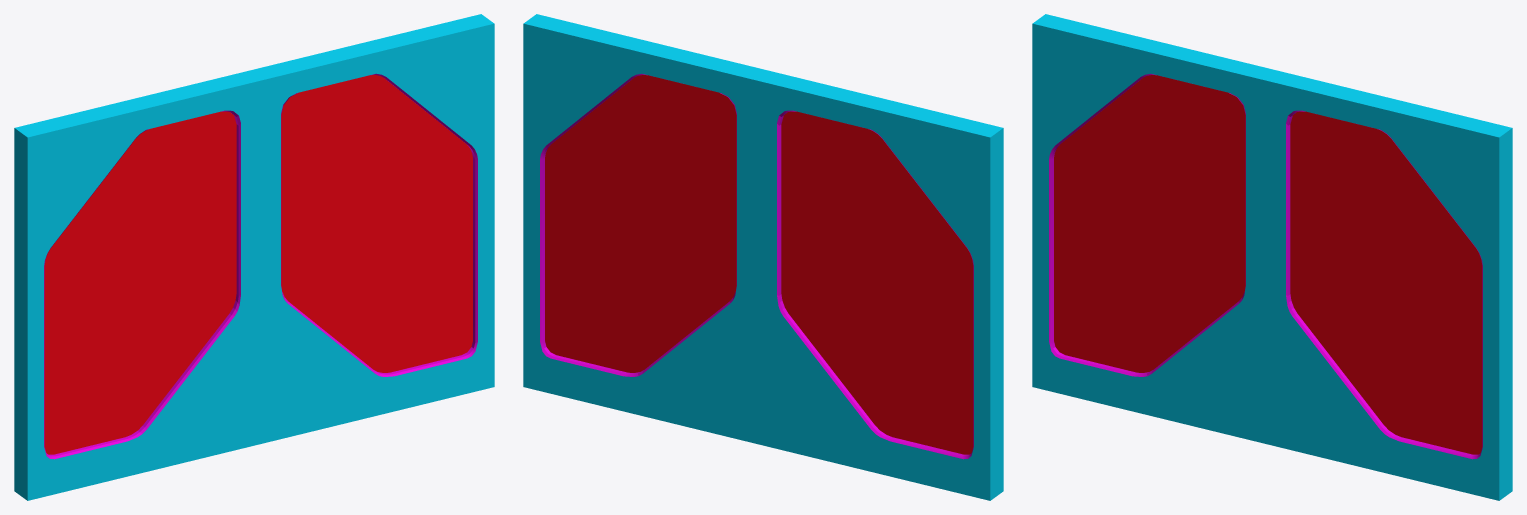
The model's file is Door.fbx.
3 views of the same model, side by side, from view 1: azimuth 30°, elevation 25°; view 2: azimuth 150°, elevation 25°; view 3: azimuth 330°, elevation 25° (orthographic).
Visible parts, largest first — view 1: Door; view 2: Door; view 3: Door.
Part boxes in pixels (left/top/right/bottom): Door: left=14, top=14, right=494, bottom=500; Door: left=523, top=14, right=1003, bottom=500; Door: left=1032, top=14, right=1512, bottom=500.
Bounding box in the file's own units: 820 × 610 × 40.
